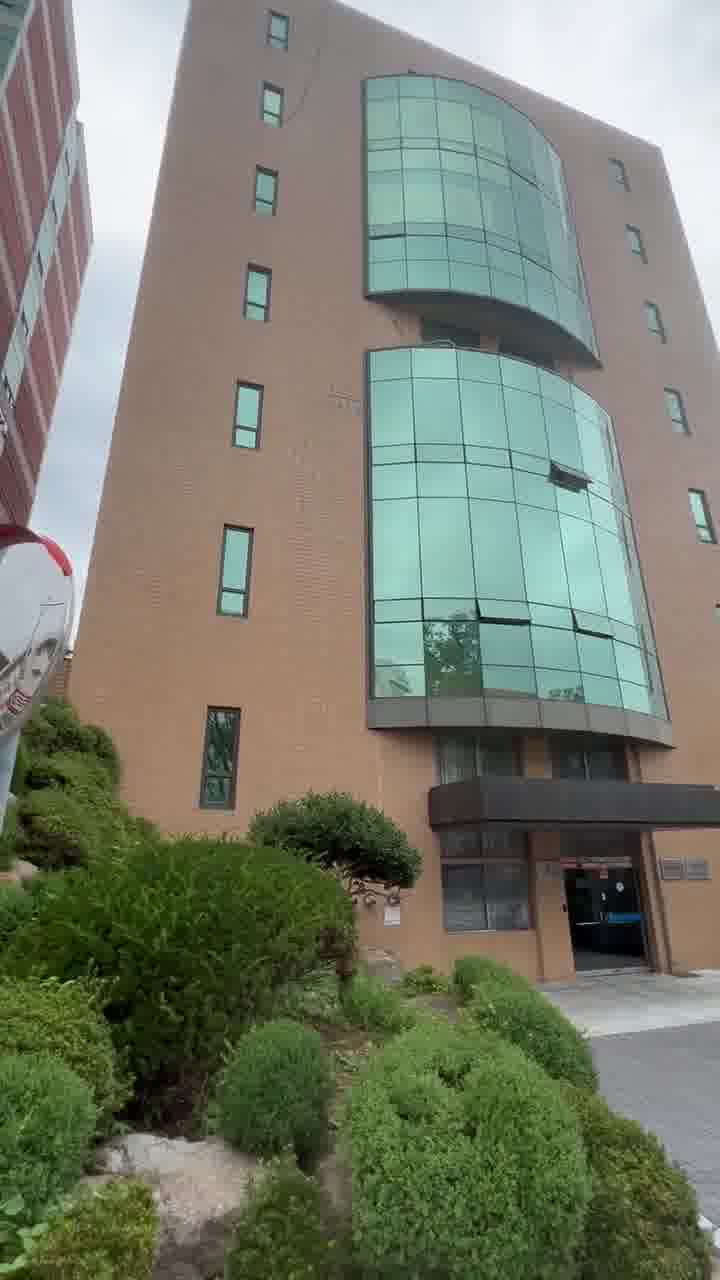medium: (140, 40, 720, 800)
